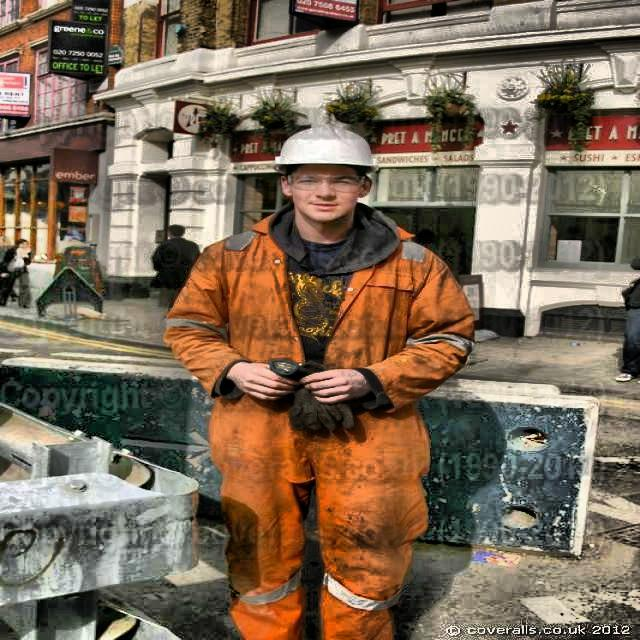person: (135, 117, 511, 640)
